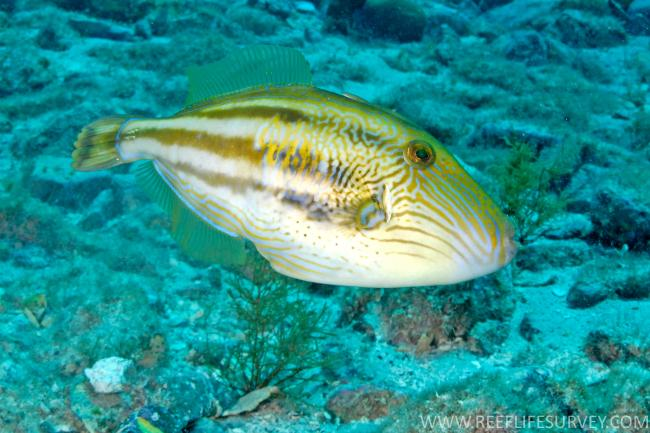fish: (72, 45, 514, 288)
